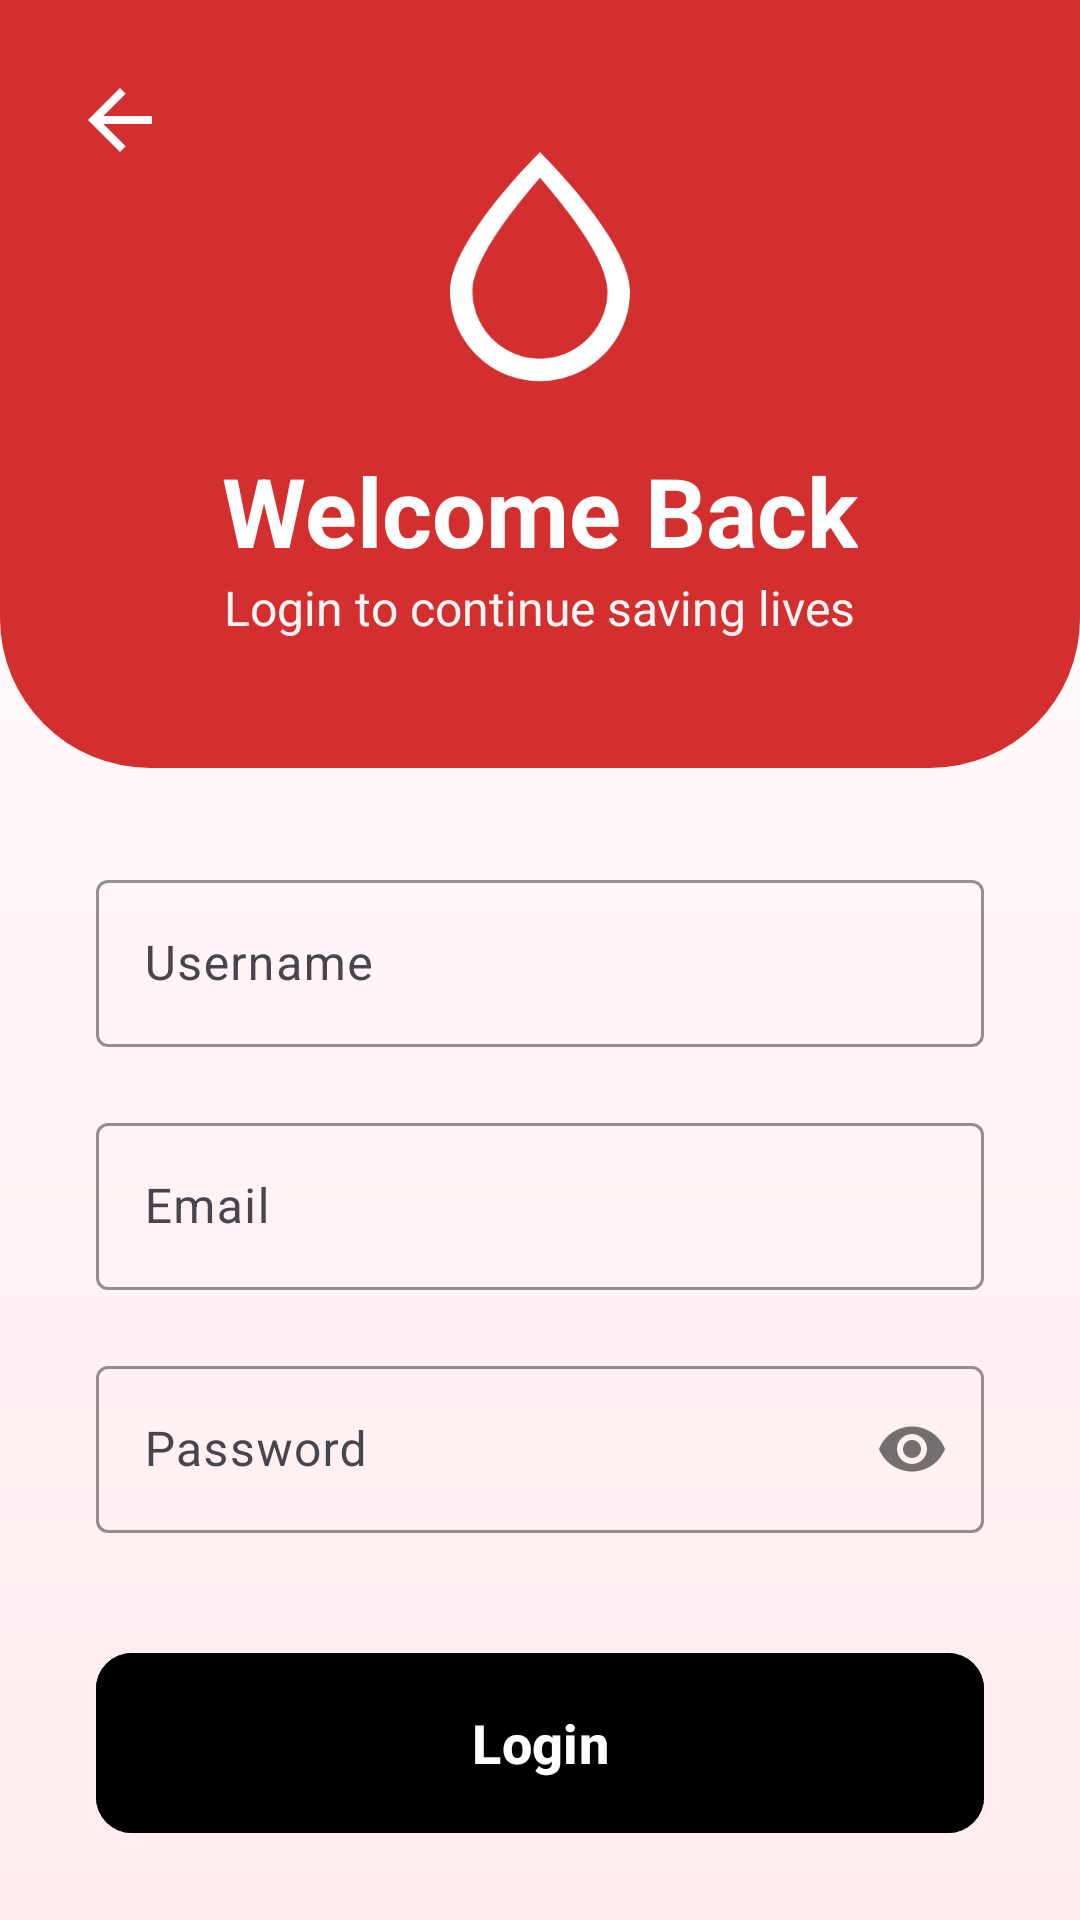

Where to tap for icons on this 1080px×1920px app screen, as point (x, y):
Back: point (120, 120)
